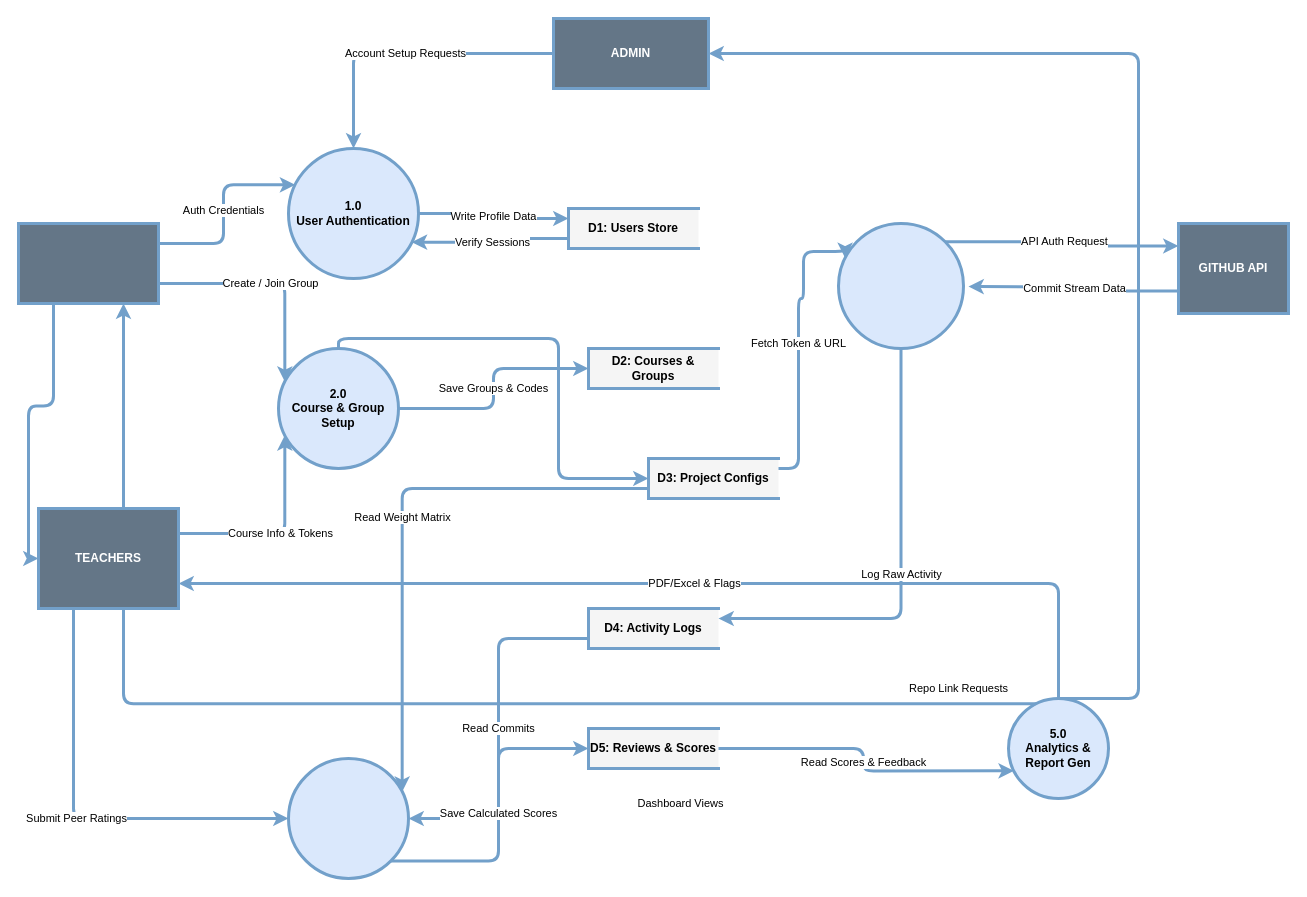
Some shapes in this 1307 by 897 pixel diagram are drawn without their labels. The shapes that lost their labels are listed below. From the top down, each one's centre as x and y in pixels, then its label:
At point (88, 263): "STUDENTS".
At point (900, 286): "3.0 GitHub Activity Fetcher".
At point (348, 818): "4.0 Peer Evaluation & Score Engine".
